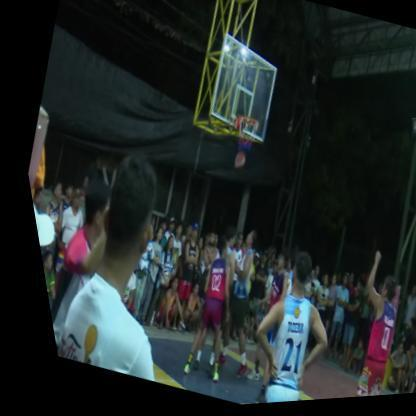basketball: (222, 149, 245, 180)
rim: (220, 109, 265, 165)
